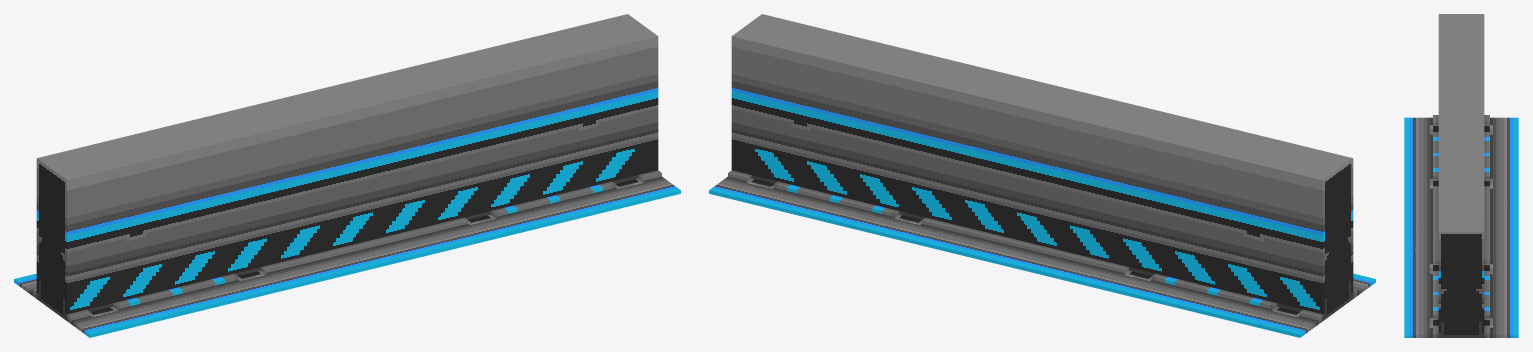
File: 模板赛道围栏.gltf
3 views of the same model, side by side, from view 1: azimuth 30°, elevation 25°; view 2: azimuth 150°, elevation 25°; view 3: azimuth 270°, elevation 25° (orthographic). The views are drawn at different scales.
Visible parts, largest first — view 1: Object-1; view 2: Object-1; view 3: Object-1.
Part boxes in pixels (x1,y1,x2,y2): Object-1: (14,14,680,337); Object-1: (709,14,1375,337); Object-1: (1404,14,1518,337).
Bounding box in the file's own units: 180 × 41 × 40.
1 material, 1 textured.
